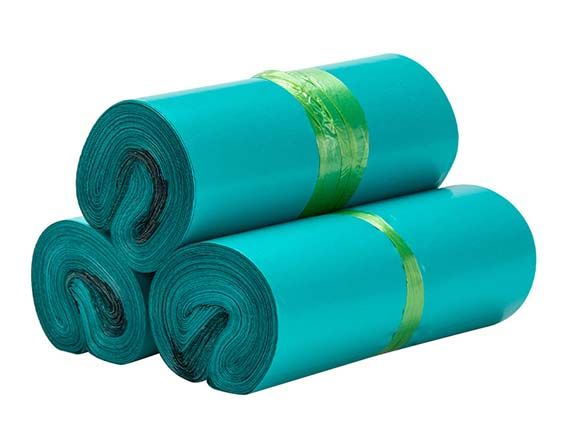塑料袋: (32, 56, 535, 392)
